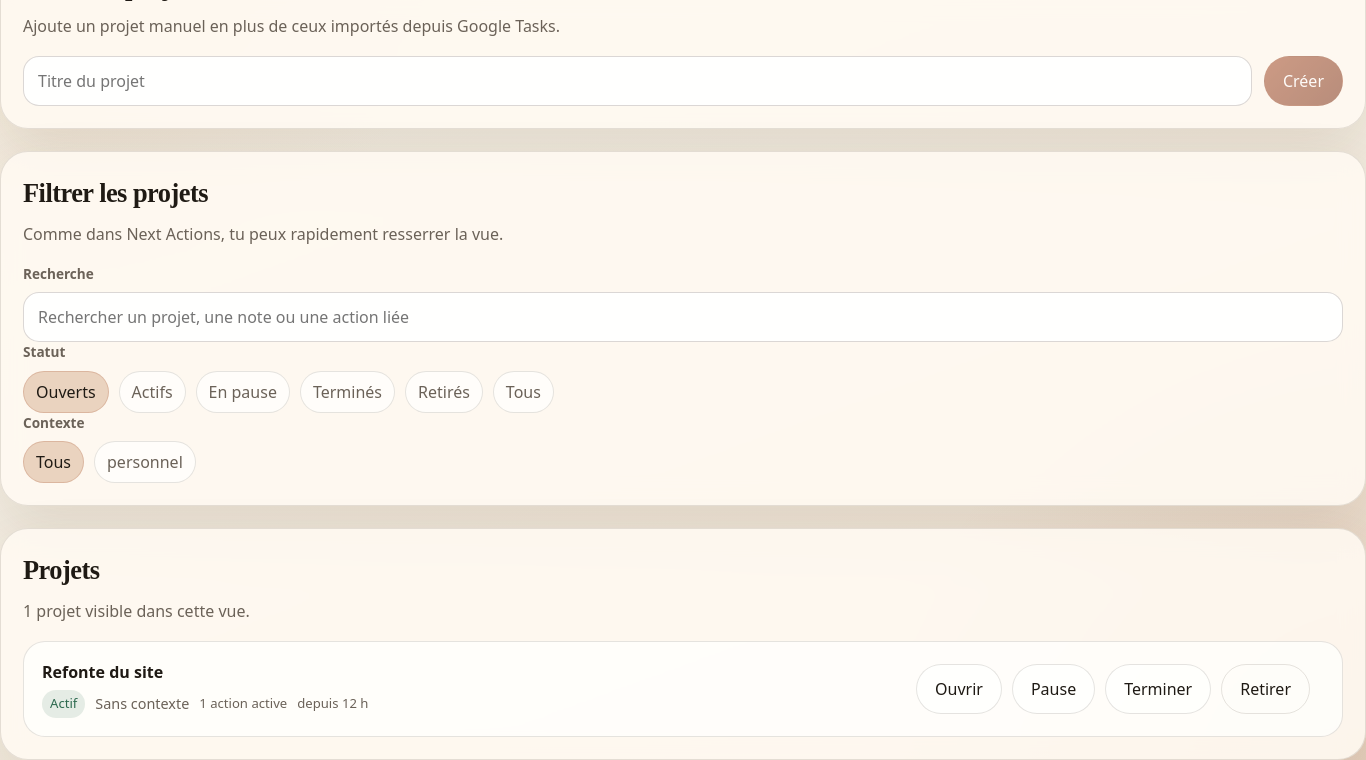
Test: ProjectsPage planned group › lists active planned tasks in order inside the project and never in the global bucket
The width and height of the screenshot is (1366, 760).
(page scrolled)
Click the button "Refonte du site" at (103, 672), box [42, 660, 368, 718]
(page scrolled)
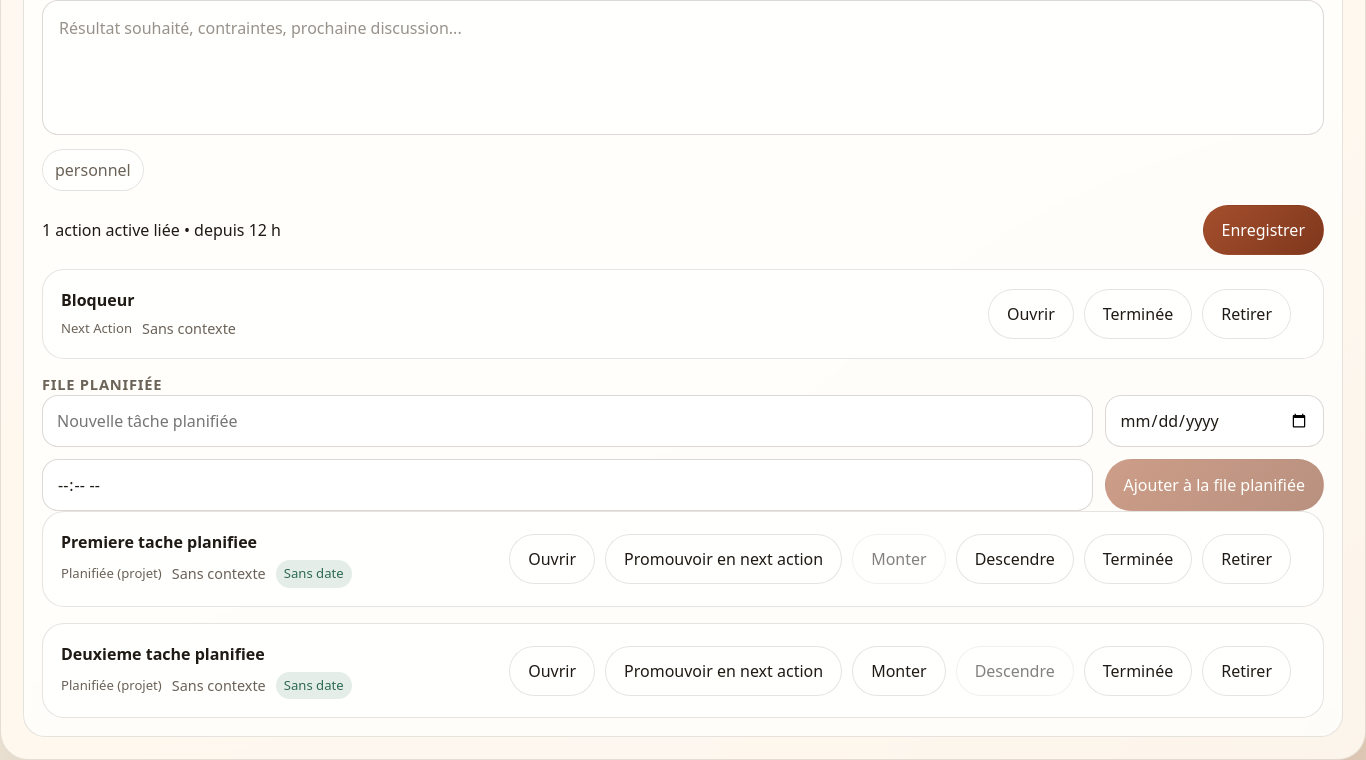
Expected: the text "Premiere tache planifiee" is shown, [61, 531, 257, 553]
Expected: the text "Deuxieme tache planifiee" is shown, [61, 643, 265, 665]
